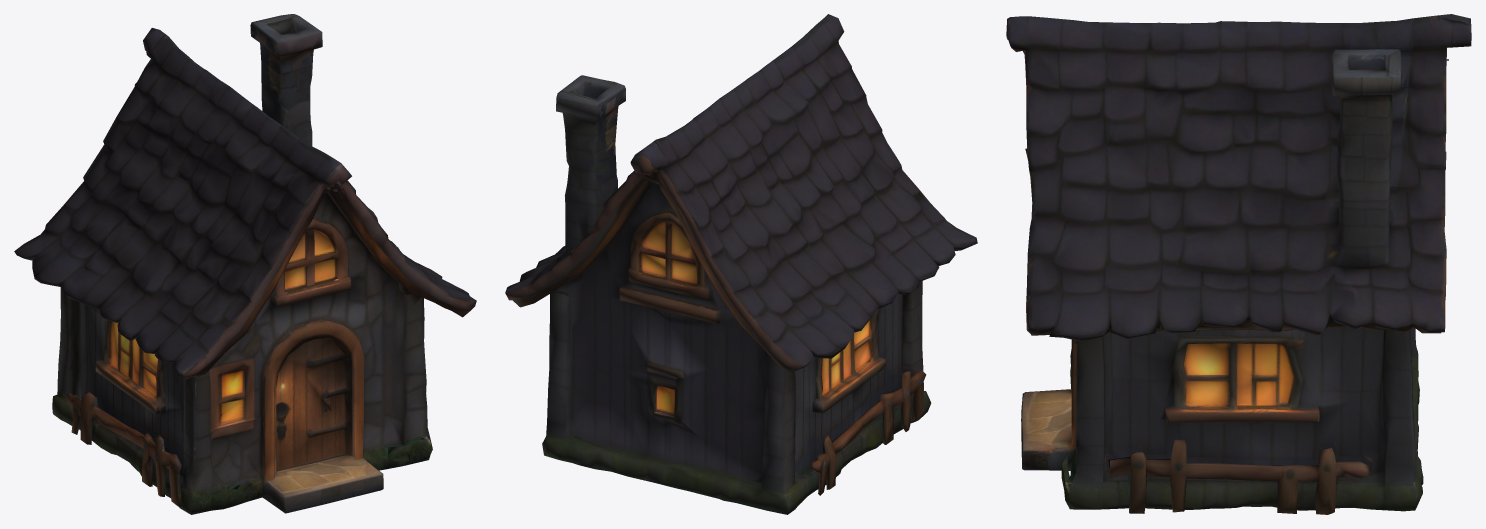
File: wolf_house.glb
3 views of the same model, side by side, from view 1: azimuth 30°, elevation 25°; view 2: azimuth 150°, elevation 25°; view 3: azimuth 270°, elevation 25° (orthographic). The views are drawn at different scales.
Bounding box in the file's own units: 1.85 × 2 × 1.94.
Materials: 1 (1 with a texture image).
